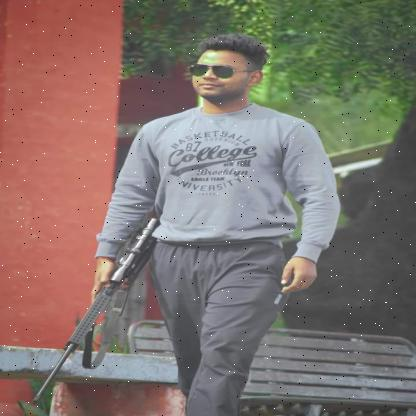rifle: (21, 203, 164, 407)
